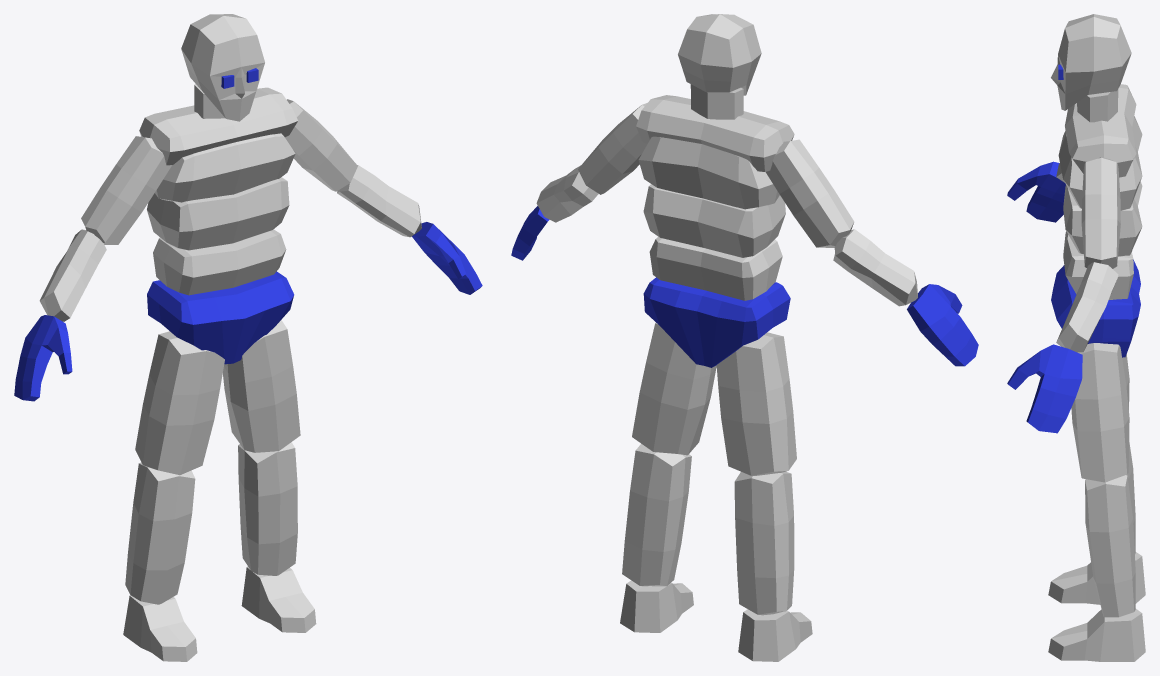
File: capsule-man.glb
3 renders of one model, left to right at view 1: azimuth 30°, elevation 25°; view 2: azimuth 150°, elevation 25°; view 3: azimuth 270°, elevation 25°, orthographic.
Visible parts, largest first — view 1: Cube.002, Torso, Arms, ead; view 2: Cube.002, Torso, Arms, ead; view 3: Cube.002, Arms, Torso, ead.
Part boxes in pixels (x1=…): Cube.002: x1=123, y1=320, x2=316, y2=661; Torso: x1=147, y1=133, x2=295, y2=364; Arms: x1=14, y1=87, x2=482, y2=401; ead: x1=181, y1=14, x2=264, y2=121; Cube.002: x1=620, y1=323, x2=812, y2=661; Torso: x1=638, y1=136, x2=790, y2=367; Arms: x1=511, y1=95, x2=978, y2=366; ead: x1=678, y1=14, x2=761, y2=119; Cube.002: x1=1048, y1=343, x2=1145, y2=661; Arms: x1=1007, y1=84, x2=1136, y2=433; Torso: x1=1051, y1=116, x2=1142, y2=357; ead: x1=1051, y1=14, x2=1131, y2=122.
Size of the model in its own units: 2.91 by 3.73 by 0.7731.
